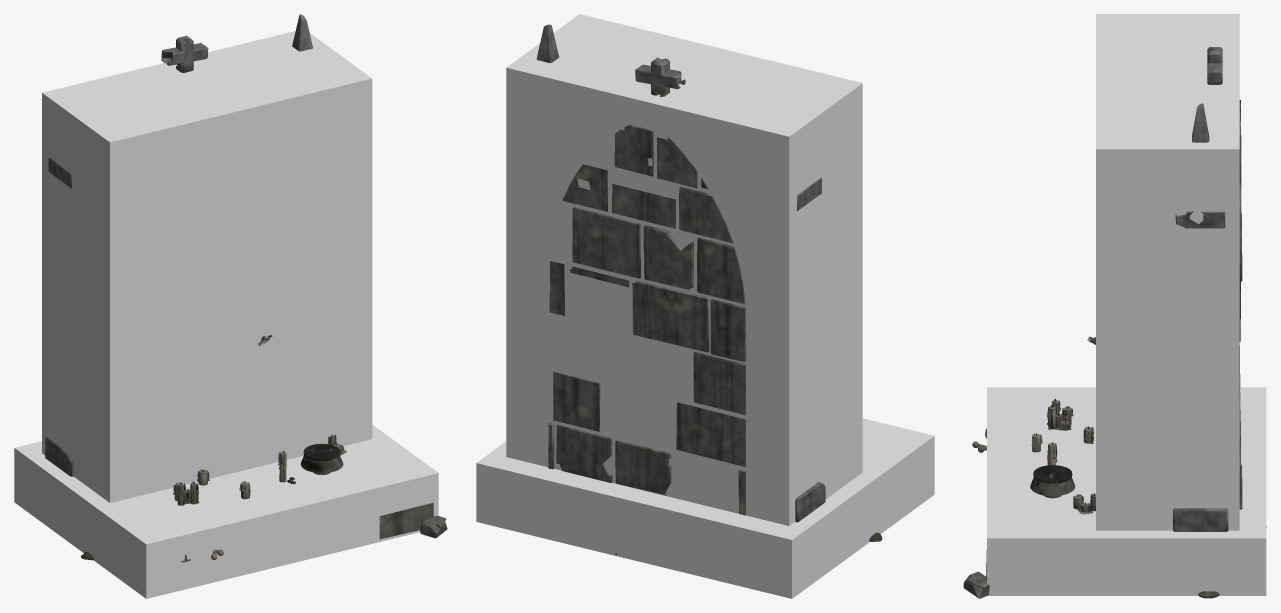
The model's file is shrine_basic.glb.
3 renders of one model, left to right at view 1: azimuth 30°, elevation 25°; view 2: azimuth 150°, elevation 25°; view 3: azimuth 270°, elevation 25°, orthographic. The views are drawn at different scales.
Visible parts, largest first — view 1: col_shrine_niche, col_shrine_plinth, shrine_body; view 2: col_shrine_niche, shrine_body, col_shrine_plinth; view 3: col_shrine_niche, col_shrine_plinth, shrine_body.
Part boxes in pixels (x1=…): col_shrine_niche: x1=42, y1=31, x2=372, y2=502; col_shrine_plinth: x1=14, y1=424, x2=438, y2=598; shrine_body: x1=45, y1=14, x2=447, y2=562; col_shrine_niche: x1=506, y1=14, x2=862, y2=525; shrine_body: x1=536, y1=24, x2=882, y2=555; col_shrine_plinth: x1=476, y1=418, x2=934, y2=598; col_shrine_niche: x1=1096, y1=14, x2=1239, y2=530; col_shrine_plinth: x1=987, y1=387, x2=1266, y2=595; shrine_body: x1=963, y1=47, x2=1266, y2=598.
Size of the model in its own units: 1.82 by 2.55 by 1.48.
Materials: 2 (2 with a texture image).
